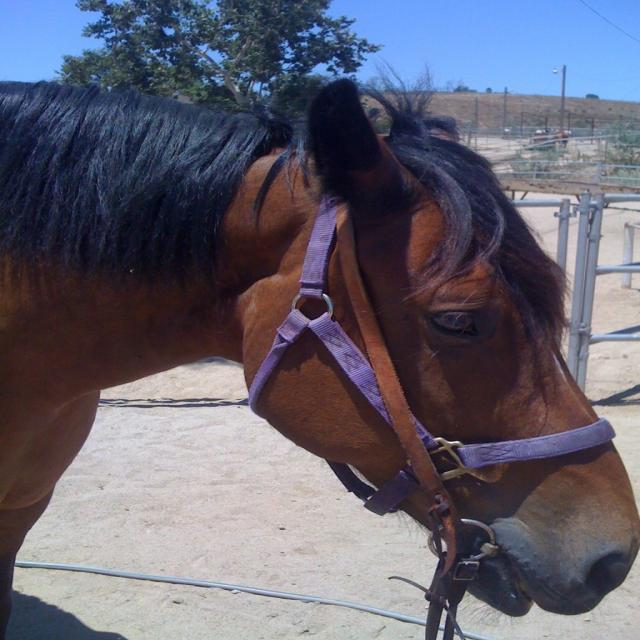Horse: (1, 0, 640, 640)
